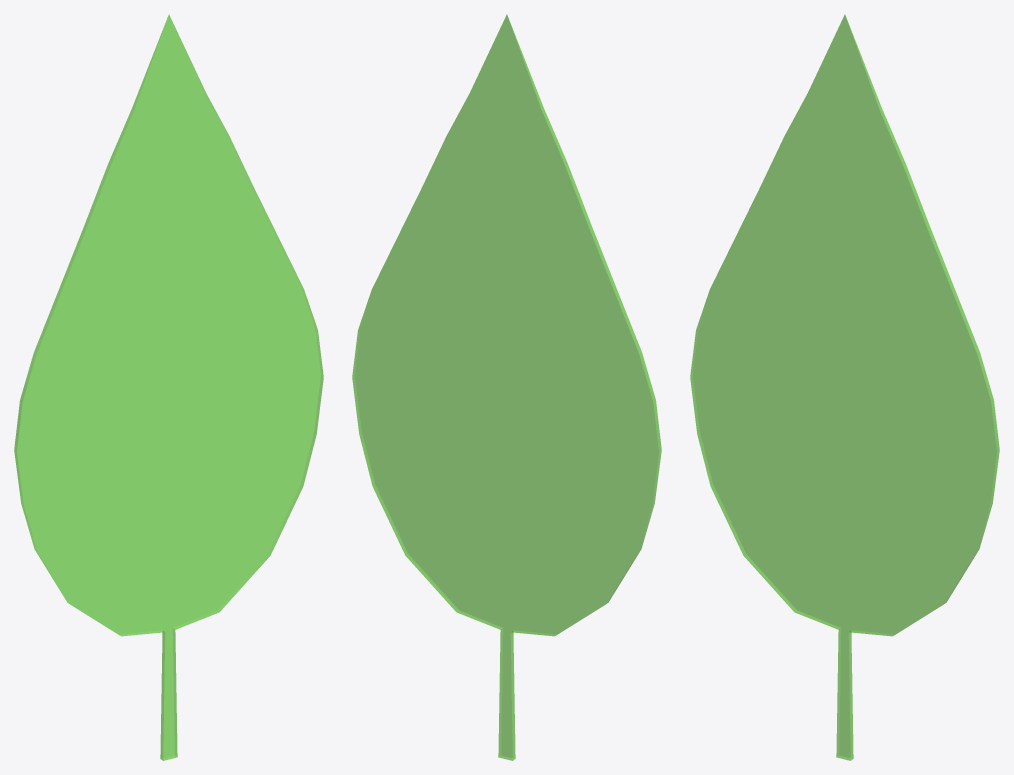
Rendered from Leaf.fbx.
3 views of the same model, side by side, from view 1: azimuth 30°, elevation 25°; view 2: azimuth 150°, elevation 25°; view 3: azimuth 330°, elevation 25° (orthographic).
Parts seen in each view (by area): view 1: leaf; view 2: leaf; view 3: leaf.
Part boxes in pixels (x1,y1,x2,y2): leaf: (14, 15, 323, 760); leaf: (352, 15, 661, 760); leaf: (690, 15, 999, 760).
Size of the model in its own units: 4.25 by 9.84 by 0.066.
